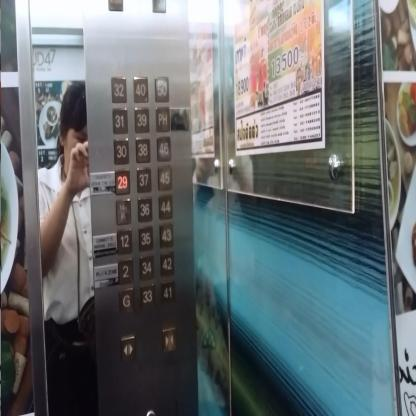12: (116, 228, 133, 254)
2: (117, 258, 133, 284)
29: (114, 169, 130, 195)
30: (113, 138, 129, 164)
31: (112, 107, 128, 135)
32: (110, 77, 126, 103)
33: (140, 284, 155, 310)
34: (139, 254, 155, 280)
35: (138, 225, 154, 252)
36: (136, 197, 152, 223)
37: (136, 167, 152, 192)
38: (135, 137, 150, 163)
39: (134, 106, 150, 134)
40: (132, 76, 149, 104)
41: (160, 280, 176, 307)
42: (160, 251, 174, 277)
43: (159, 223, 173, 249)
44: (158, 194, 173, 220)
45: (157, 166, 172, 191)
46: (157, 136, 171, 162)
50: (154, 76, 170, 103)
G: (118, 287, 134, 313)
PH: (155, 106, 171, 132)
close: (162, 327, 176, 354)
open: (121, 335, 136, 362)
unknown: (116, 197, 132, 225)
